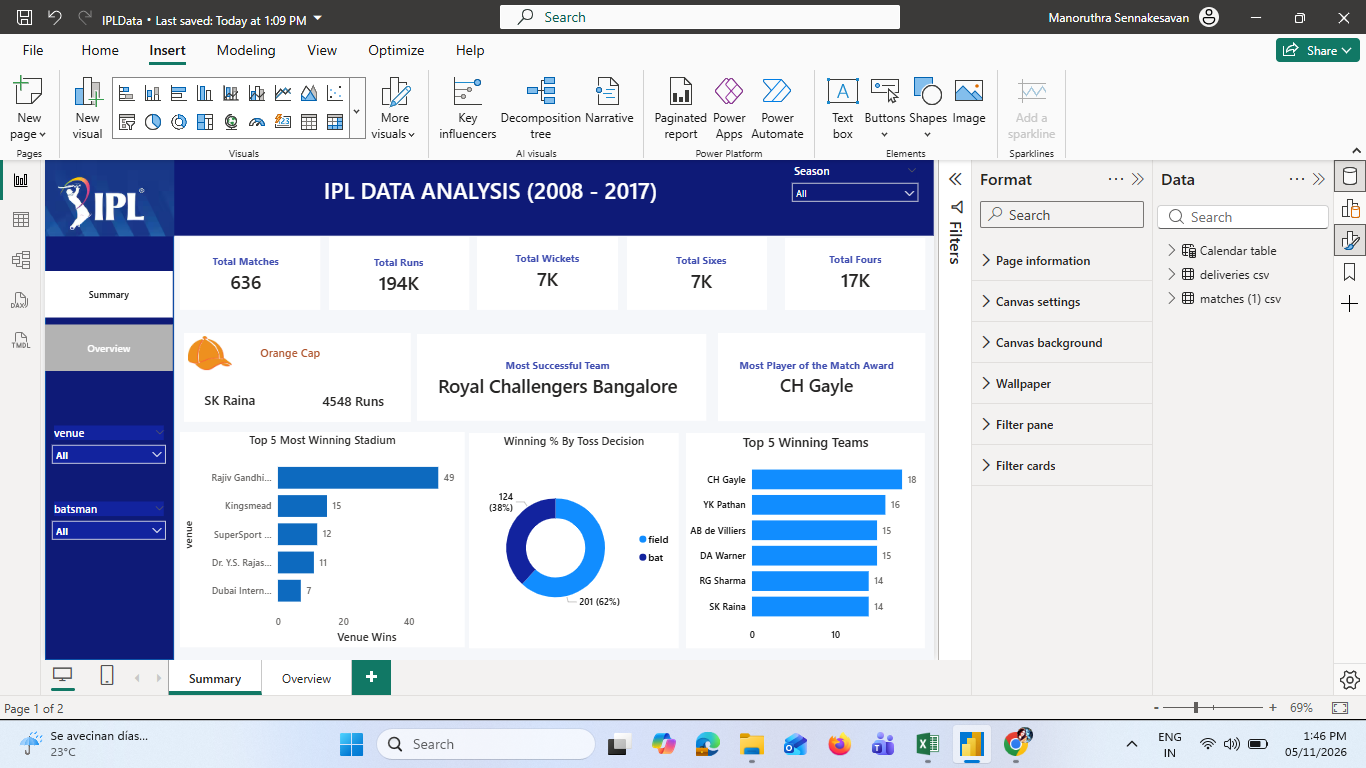

This screenshot's page, from the dashboard's own definition file:
{"tool":"powerbi","page":{"name":"Summary","canvas":[1280,720],"ordinal":0},"visuals":[{"type":"shape","box":[1065.5,112.6,202,103.7],"z":0},{"type":"shape","box":[200.2,249.3,326.6,128.2],"z":0,"group":"g1"},{"type":"shape","box":[194.9,110.8,202,105.5],"z":1000},{"type":"shape","box":[185.9,0,1094.1,109.1],"z":2000},{"type":"textbox","box":[270.7,16.1,671.7,67.3],"z":3000},{"type":"shape","box":[0,0,185.9,720],"z":4000},{"type":"image","box":[0,0,185.9,109.8],"z":5000},{"type":"shape","box":[409,110.9,201.6,105.1],"z":6000},{"type":"cardVisual","fields":{"Data":["matches (1) csv.Total Runs"]},"box":[414.7,112.6,189.5,105.5],"z":7000},{"type":"shape","box":[622.1,110.9,203,105.1],"z":8000},{"type":"cardVisual","fields":{"Data":["matches (1) csv.Total Wickets"]},"box":[627.5,107.3,191.3,105.5],"z":9000},{"type":"shape","box":[838.1,110.9,201.6,105.1],"z":10000},{"type":"cardVisual","fields":{"Data":["matches (1) csv.Total Sixes"]},"box":[849.2,110.8,191.3,103.7],"z":11000},{"type":"shape","box":[968.9,248.5,298.5,126.9],"z":11000,"group":"g2"},{"type":"slicer","fields":{"Values":["matches (1) csv.season"]},"box":[1065.5,0,202,105.5],"z":12000},{"type":"cardVisual","fields":{"Data":["matches (1) csv.Total Fours"]},"box":[1070.8,109.1,191.3,103.7],"z":13000},{"type":"group","id":"g1","title":"Group 1","box":[200.2,249.3,326.6,128.2],"z":14000},{"type":"group","id":"g2","title":"Group 2","box":[968.9,248.5,298.5,126.9],"z":15000},{"type":"cardVisual","fields":{"Data":["Min(matches (1) csv.player_of_match)"]},"box":[968.9,248.5,284.2,126.9],"z":15000,"group":"g2"},{"type":"group","id":"g3","title":"Group 3","box":[536.3,250.3,416.5,125.1],"z":16000},{"type":"cardVisual","fields":{"Data":["Min(deliveries csv.batsman)"]},"box":[200.2,314.3,170.3,61.5],"z":16000,"group":"g1"},{"type":"cardVisual","fields":{"Data":["matches (1) csv.Total Matches"]},"box":[194.9,110.8,189.5,105.5],"z":17000},{"type":"textbox","box":[223,261.6,259.9,35.1],"z":17000,"group":"g1"},{"type":"image","box":[205.5,251.1,63.2,54.4],"z":18000,"group":"g1"},{"type":"clusteredBarChart","title":"Top 5 Most Winning Stadium","fields":{"Y":["matches (1) csv.Venue Wins"],"Category":["matches (1) csv.venue"]},"box":[194.4,391.7,410.4,309.6],"z":18000},{"type":"shape","box":[536.3,250.3,416.5,125.1],"z":19000,"group":"g3"},{"type":"cardVisual","fields":{"Data":["matches (1) csv.Orange cap holder runs"]},"box":[370.5,314.3,156.3,63.2],"z":19000,"group":"g1"},{"type":"donutChart","title":"Winning % By Toss Decision","fields":{"Y":["CountNonNull(matches (1) csv.winner)"],"Category":["matches (1) csv.toss_decision"]},"box":[610.6,393.1,302.4,309.6],"z":19000},{"type":"cardVisual","fields":{"Data":["matches (1) csv.Most Successful Team"]},"box":[536.3,252.1,405.8,123.4],"z":20000,"group":"g3"},{"type":"clusteredBarChart","title":"Top 5 Winning Teams","fields":{"Category":["matches (1) csv.player_of_match"],"Y":["CountNonNull(matches (1) csv.player_of_match)"]},"box":[923,393.1,344.2,309.6],"z":20000},{"type":"slicer","fields":{"Values":["matches (1) csv.venue"]},"box":[0,377.3,184.3,61.9],"z":22000},{"type":"slicer","fields":{"Values":["deliveries csv.batsman"]},"box":[0,486.3,184.1,60.8],"z":23000},{"type":"pageNavigator","box":[0,159.8,184.3,145.4],"z":23001}]}

Visuals, with their boxes on the page's 1280x720 design canvas (x1, y1, x2, y2). These are canvas units, not pixel positions in the 1366x768 screenshot, which may show the page scaled, cropped or inside an application window:
shape: {"x1": 1066, "y1": 113, "x2": 1268, "y2": 216}
shape: {"x1": 200, "y1": 249, "x2": 527, "y2": 378}
shape: {"x1": 195, "y1": 111, "x2": 397, "y2": 216}
shape: {"x1": 186, "y1": 0, "x2": 1280, "y2": 109}
textbox: {"x1": 271, "y1": 16, "x2": 942, "y2": 83}
shape: {"x1": 0, "y1": 0, "x2": 186, "y2": 720}
image: {"x1": 0, "y1": 0, "x2": 186, "y2": 110}
shape: {"x1": 409, "y1": 111, "x2": 611, "y2": 216}
cardVisual - matches (1) csv.Total Runs: {"x1": 415, "y1": 113, "x2": 604, "y2": 218}
shape: {"x1": 622, "y1": 111, "x2": 825, "y2": 216}
cardVisual - matches (1) csv.Total Wickets: {"x1": 628, "y1": 107, "x2": 819, "y2": 213}
shape: {"x1": 838, "y1": 111, "x2": 1040, "y2": 216}
cardVisual - matches (1) csv.Total Sixes: {"x1": 849, "y1": 111, "x2": 1040, "y2": 214}
shape: {"x1": 969, "y1": 248, "x2": 1267, "y2": 375}
slicer - matches (1) csv.season: {"x1": 1066, "y1": 0, "x2": 1268, "y2": 106}
cardVisual - matches (1) csv.Total Fours: {"x1": 1071, "y1": 109, "x2": 1262, "y2": 213}
"Group 1" group: {"x1": 200, "y1": 249, "x2": 527, "y2": 378}
"Group 2" group: {"x1": 969, "y1": 248, "x2": 1267, "y2": 375}
cardVisual - Min(matches (1) csv.player_of_match): {"x1": 969, "y1": 248, "x2": 1253, "y2": 375}
"Group 3" group: {"x1": 536, "y1": 250, "x2": 953, "y2": 375}
cardVisual - Min(deliveries csv.batsman): {"x1": 200, "y1": 314, "x2": 370, "y2": 376}
cardVisual - matches (1) csv.Total Matches: {"x1": 195, "y1": 111, "x2": 384, "y2": 216}
textbox: {"x1": 223, "y1": 262, "x2": 483, "y2": 297}
image: {"x1": 206, "y1": 251, "x2": 269, "y2": 306}
"Top 5 Most Winning Stadium" clusteredBarChart: {"x1": 194, "y1": 392, "x2": 605, "y2": 701}
shape: {"x1": 536, "y1": 250, "x2": 953, "y2": 375}
cardVisual - matches (1) csv.Orange cap holder runs: {"x1": 370, "y1": 314, "x2": 527, "y2": 378}
"Winning % By Toss Decision" donutChart: {"x1": 611, "y1": 393, "x2": 913, "y2": 703}
cardVisual - matches (1) csv.Most Successful Team: {"x1": 536, "y1": 252, "x2": 942, "y2": 376}
"Top 5 Winning Teams" clusteredBarChart: {"x1": 923, "y1": 393, "x2": 1267, "y2": 703}
slicer - matches (1) csv.venue: {"x1": 0, "y1": 377, "x2": 184, "y2": 439}
slicer - deliveries csv.batsman: {"x1": 0, "y1": 486, "x2": 184, "y2": 547}
pageNavigator: {"x1": 0, "y1": 160, "x2": 184, "y2": 305}
